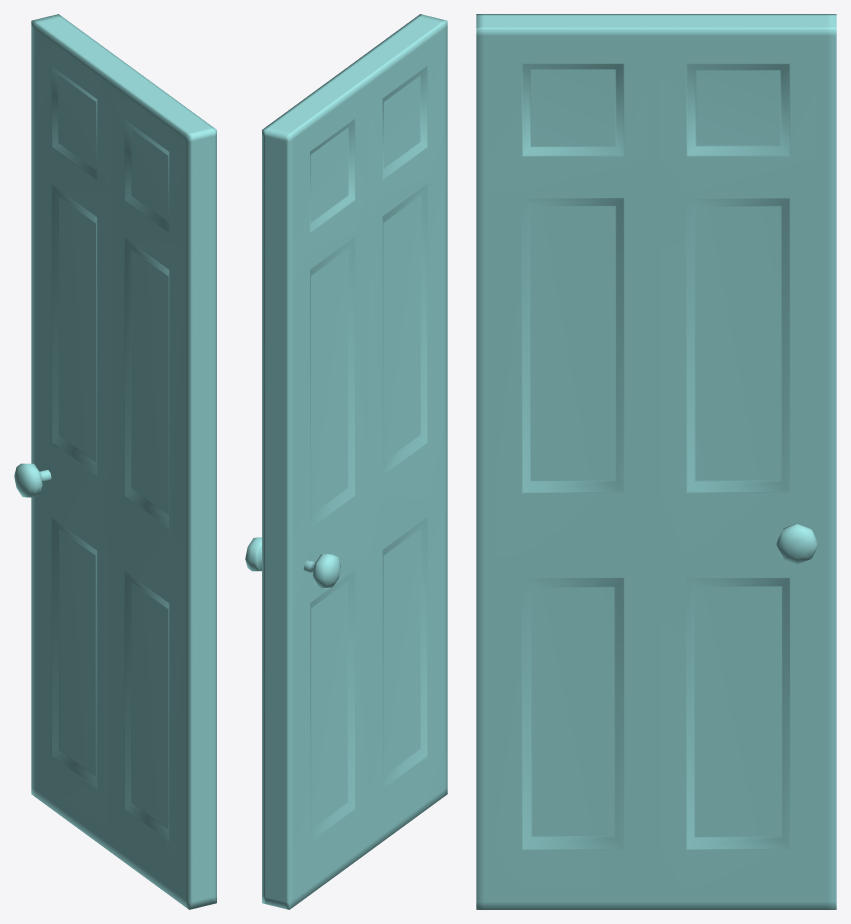
File: FYP_asset_diningRoom_door.fbx
3 renders of one model, left to right at view 1: azimuth 30°, elevation 25°; view 2: azimuth 150°, elevation 25°; view 3: azimuth 270°, elevation 25°, orthographic. The views are drawn at different scales.
Parts seen in each view (by area): view 1: door, handle_02; view 2: door, handle_02, handle_01; view 3: door, handle_01.
Part boxes in pixels (x1,y1,x2,y2): door: (31,14,216,909); handle_02: (14,463,51,497); door: (262,14,447,909); handle_02: (303,554,340,588); handle_01: (245,537,261,571); door: (476,14,836,909); handle_01: (776,523,818,564).
Bounding box in the file's own units: 9.75 × 80.91 × 29.99.
